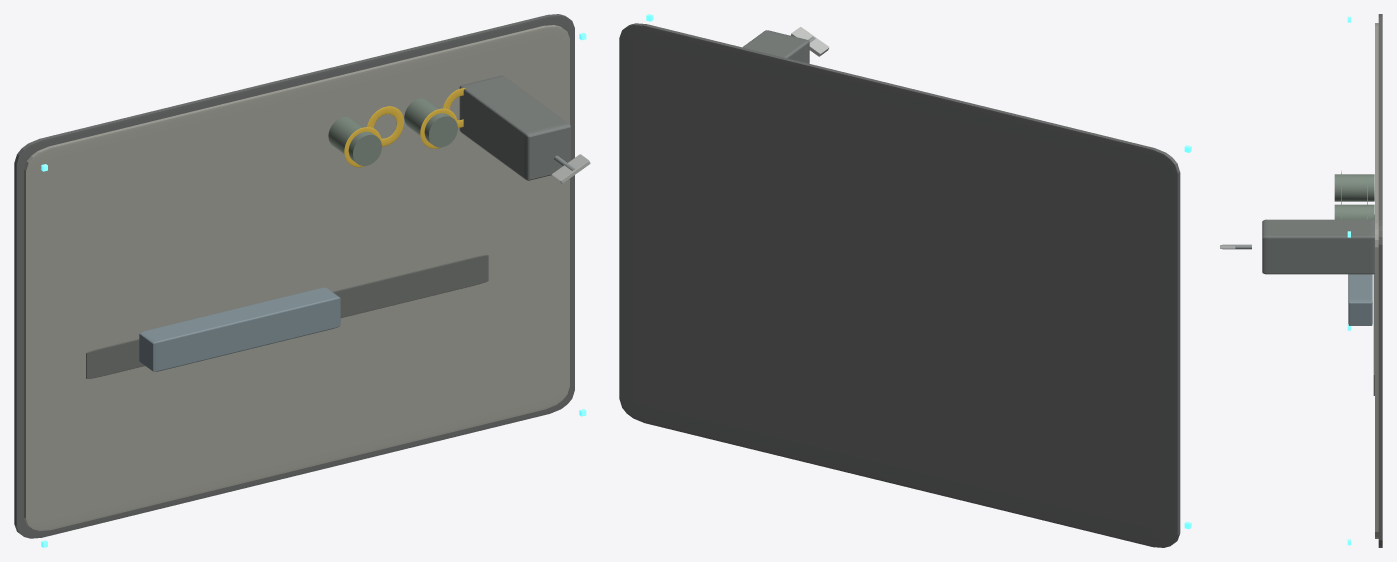
File: b-21-advanced-airfield-lod2.glb
The picture shows the model from 3 angles, left to right: view 1: azimuth 30°, elevation 25°; view 2: azimuth 150°, elevation 25°; view 3: azimuth 270°, elevation 25°; orthographic projection. The views are drawn at different scales.
Parts seen in each view (by area): view 1: foundation_inner_pad, foundation, heavy_aircraft_fuselage, tower_main, advanced_taxiway_road, advanced_fuel_2_vessel, advanced_fuel_0_vessel; view 2: foundation, tower_main; view 3: tower_main, foundation, foundation_inner_pad, heavy_aircraft_fuselage, advanced_fuel_0_vessel, advanced_fuel_2_vessel, advanced_taxiway_road.
Boxes of the visible parts, x1,y1,x2,y2 form: foundation_inner_pad: (24,25,569,530); foundation: (14,14,574,538); heavy_aircraft_fuselage: (139,287,340,371); tower_main: (459,75,570,180); advanced_taxiway_road: (86,254,488,378); advanced_fuel_2_vessel: (404,98,457,147); advanced_fuel_0_vessel: (328,117,381,165); foundation: (619,23,1180,547); tower_main: (742,30,809,63); tower_main: (1262,219,1374,274); foundation: (1378,14,1382,547); foundation_inner_pad: (1375,23,1378,538); heavy_aircraft_fuselage: (1348,274,1372,325); advanced_fuel_0_vessel: (1334,174,1374,201); advanced_fuel_2_vessel: (1334,204,1374,219); advanced_taxiway_road: (1373,215,1374,395).
Size of what is drawn, in the model's own units: 25 by 17 by 7.69.
